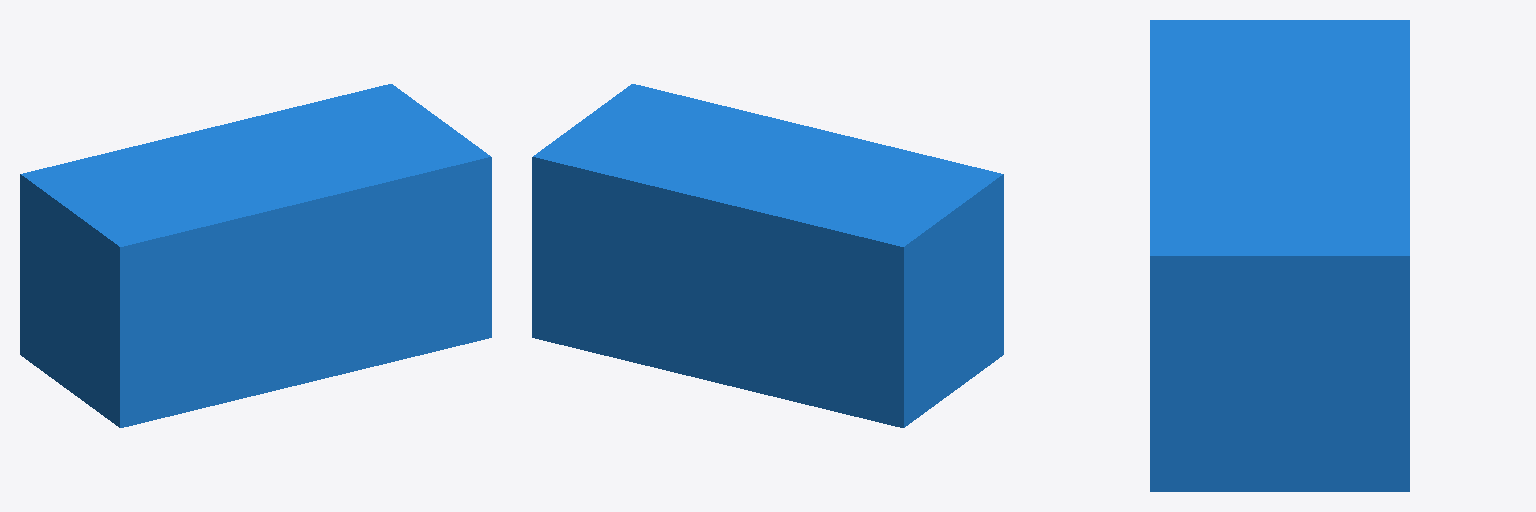
The robot description file, URDF, robot "stick_small":
<?xml version="1.0"?>
<robot name="stick_small">
  <link name="stick">
    <inertial>
      <origin xyz="0 0 0" rpy="0 0 0"/>
      <mass value="0.02"/>
      <inertia ixx="1e-5" ixy="0" ixz="0" iyy="1e-5" iyz="0" izz="1e-5"/>
    </inertial>
    <visual>
      <origin xyz="0 0 0" rpy="0 0 0"/>
      <geometry>
        <mesh filename="stick_small.obj"/>
      </geometry>
      <material name="stick_blue">
        <color rgba="0.2 0.6 0.95 1.0"/>
      </material>
    </visual>
    <collision>
      <origin xyz="0 0 0" rpy="0 0 0"/>
      <geometry>
        <mesh filename="stick_small.obj"/>
      </geometry>
    </collision>
  </link>
</robot>

--- What the picture shows (computed from the rendered views, not written in the file) ---
3 views of the same robot in one strip: view 1: azimuth 30°, elevation 25°; view 2: azimuth 150°, elevation 25°; view 3: azimuth 270°, elevation 25° (orthographic).
Robot: stick_small — 1 links, 0 joints (none); root link stick; default pose: every joint at zero.
Links seen in each view (by area): view 1: stick; view 2: stick; view 3: stick.
Link boxes in pixels (x1,y1,x2,y2): stick: (20,84,491,427); stick: (532,84,1003,427); stick: (1150,20,1409,491).
Bounding box of the posed robot: 0.03 × 0.014 × 0.014 m (x, y, z).
1 mesh visuals loaded from 1 distinct referenced files (1 OBJ).
